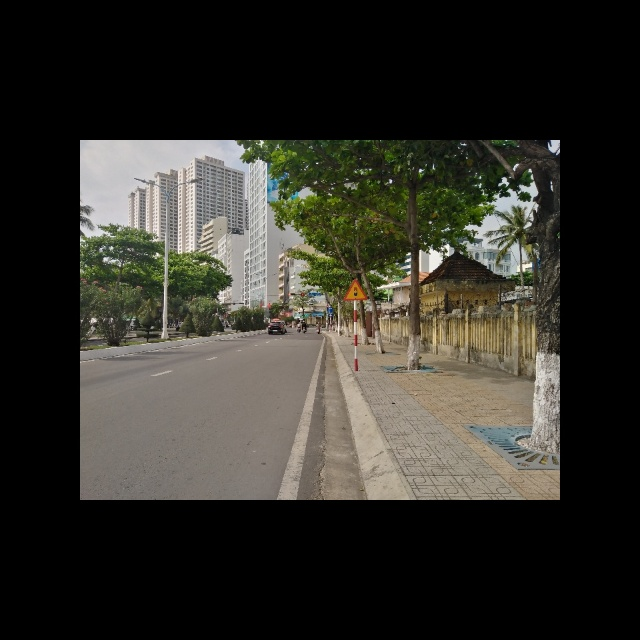Giao nhau có tín hiệu đèn: (342, 276, 368, 301)
